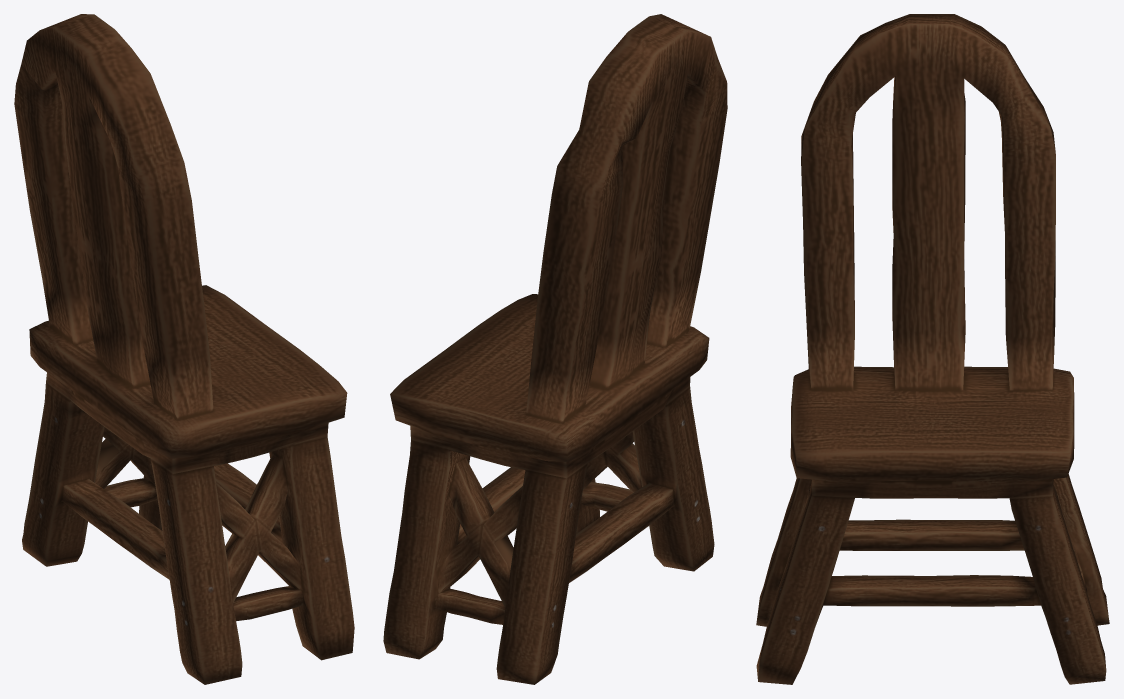
File: ChairPlayer1.fbx
3 renders of one model, left to right at view 1: azimuth 30°, elevation 25°; view 2: azimuth 150°, elevation 25°; view 3: azimuth 270°, elevation 25°, orthographic. The views are drawn at different scales.
Parts seen in each view (by area): view 1: chair_lp; view 2: chair_lp; view 3: chair_lp.
Part boxes in pixels (box(x1,y1,x2,y2)): chair_lp: box(14, 14, 354, 684); chair_lp: box(383, 14, 727, 684); chair_lp: box(756, 14, 1109, 684).
Bounding box in the file's own units: 259 × 696 × 381.
1 material, 1 textured.
